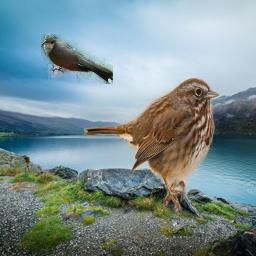Cuckoo: (41, 34, 113, 84)
Sparrow: (84, 77, 220, 215)
